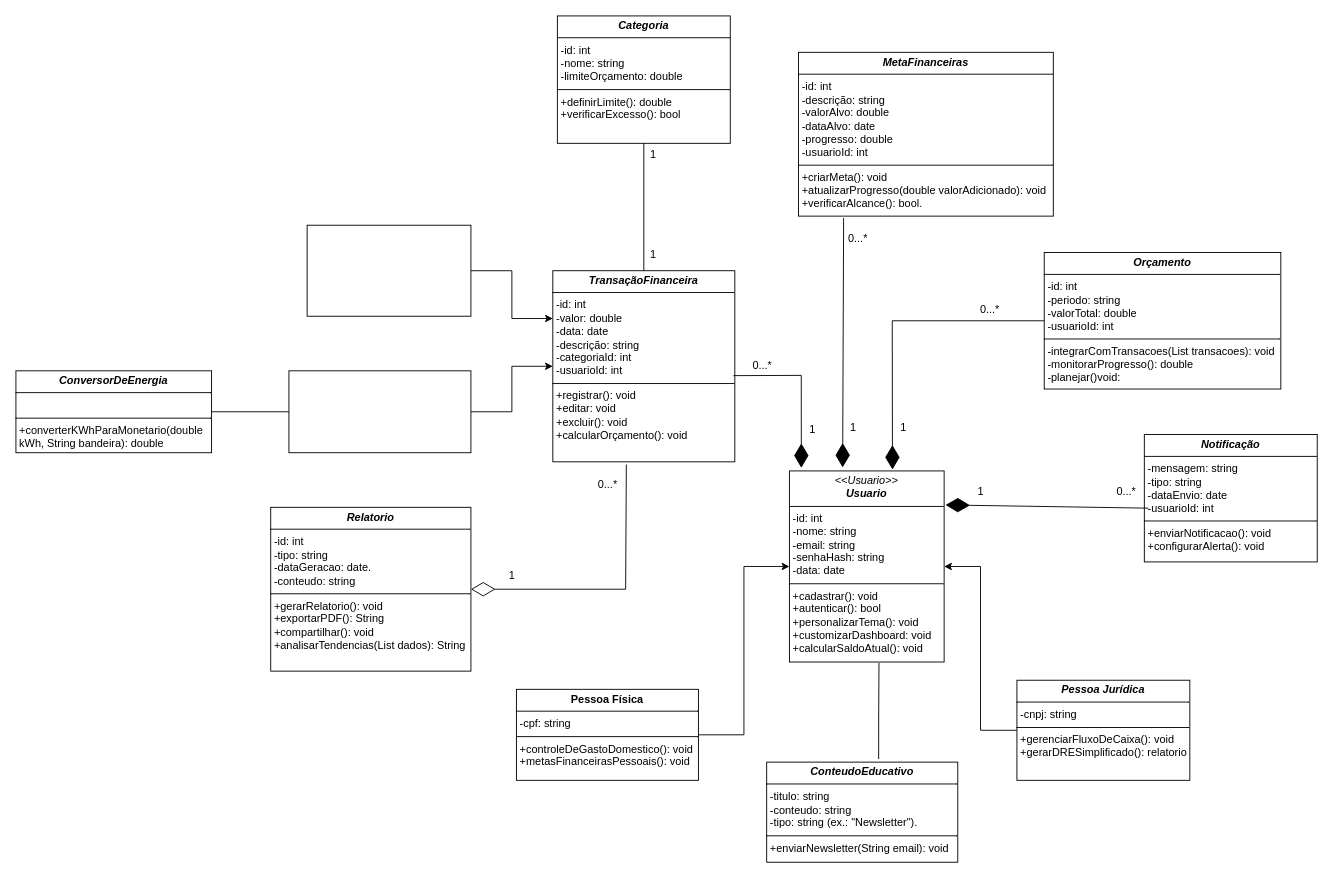
This 1333x878 diagram has some shape labels left out. The shapes that lost their labels are listed below. From the top down, each one's centre as x and y in pixels, then its label:
At (388,270): "Receita -salarioMensal: double +projetarReceitaFutura(): double".
At (379,411): "Despesa -recorrente: bool +categorizarComoEnergia(): double".
